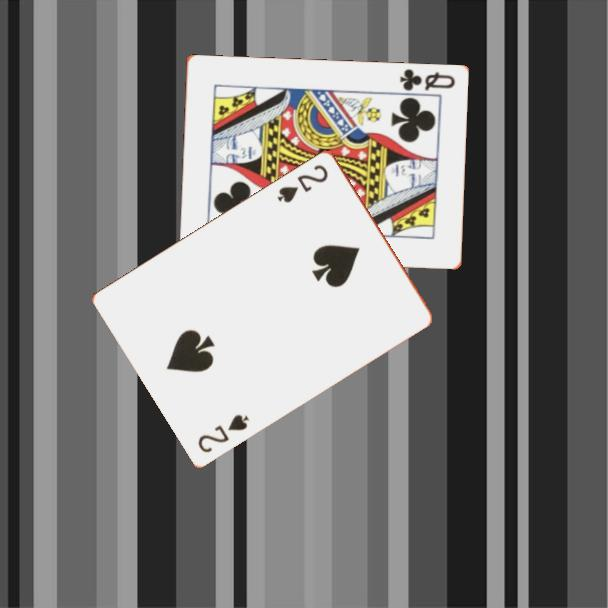c12: (396, 66, 458, 94)
s02: (273, 160, 331, 205), (194, 410, 252, 455)
